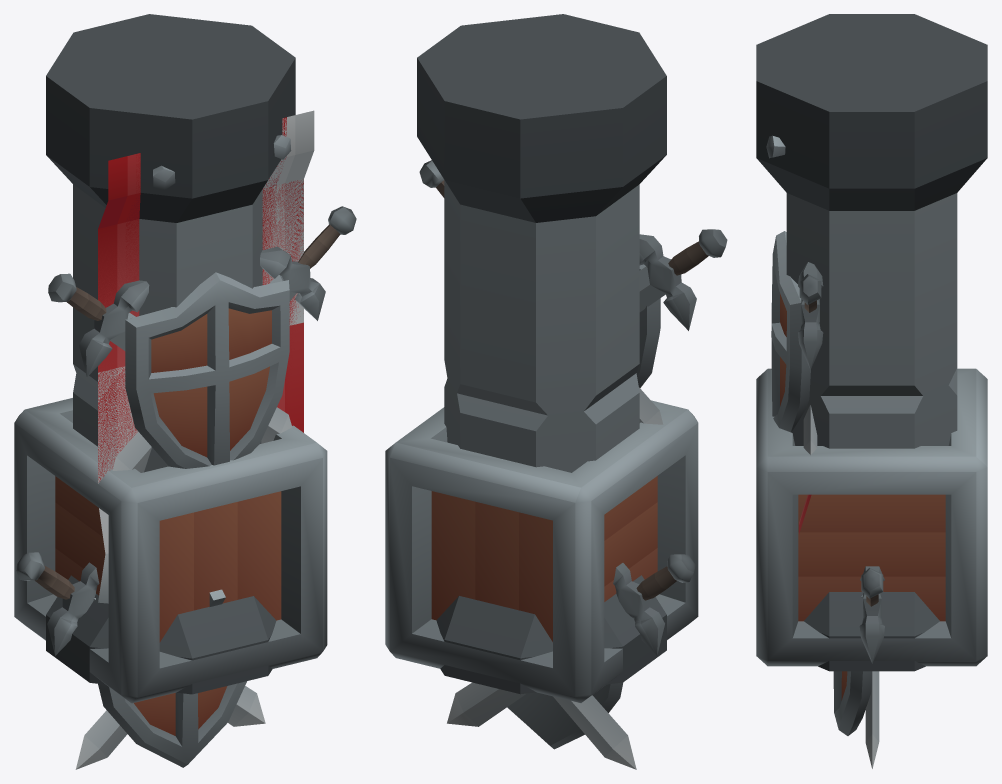
File: townkit.glb
The picture shows the model from 3 angles, left to right: view 1: azimuth 30°, elevation 25°; view 2: azimuth 150°, elevation 25°; view 3: azimuth 270°, elevation 25°; orthographic projection. The views are drawn at different scales.
Parts seen in each view (by area): view 1: pillar, box_large, banner_shield_red, banner_patternA_red, sword_shield, banner_thin_red; view 2: pillar, box_large, sword_shield, banner_shield_red; view 3: pillar, box_large, banner_shield_red, sword_shield, banner_patternA_red.
Part boxes in pixels (x1,y1,x2,y2): pillar: (46,14,295,694); box_large: (14,398,327,703); banner_shield_red: (48,180,356,482); banner_patternA_red: (98,110,314,603); sword_shield: (16,552,265,769); banner_thin_red: (125,117,286,438); pillar: (417,14,666,694); box_large: (385,400,698,702); sword_shield: (447,554,695,769); banner_shield_red: (419,160,727,424); pillar: (756,14,987,671); box_large: (756,368,987,666); banner_shield_red: (771,231,823,454); sword_shield: (833,566,884,768); banner_patternA_red: (766,135,811,533).
Size of the model in its own units: 2.23 by 4.82 by 1.5.
